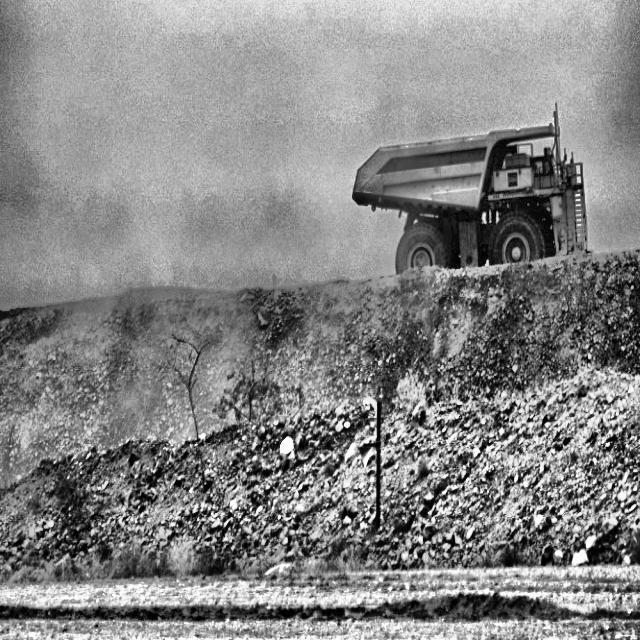dump_truck: (351, 108, 590, 284)
